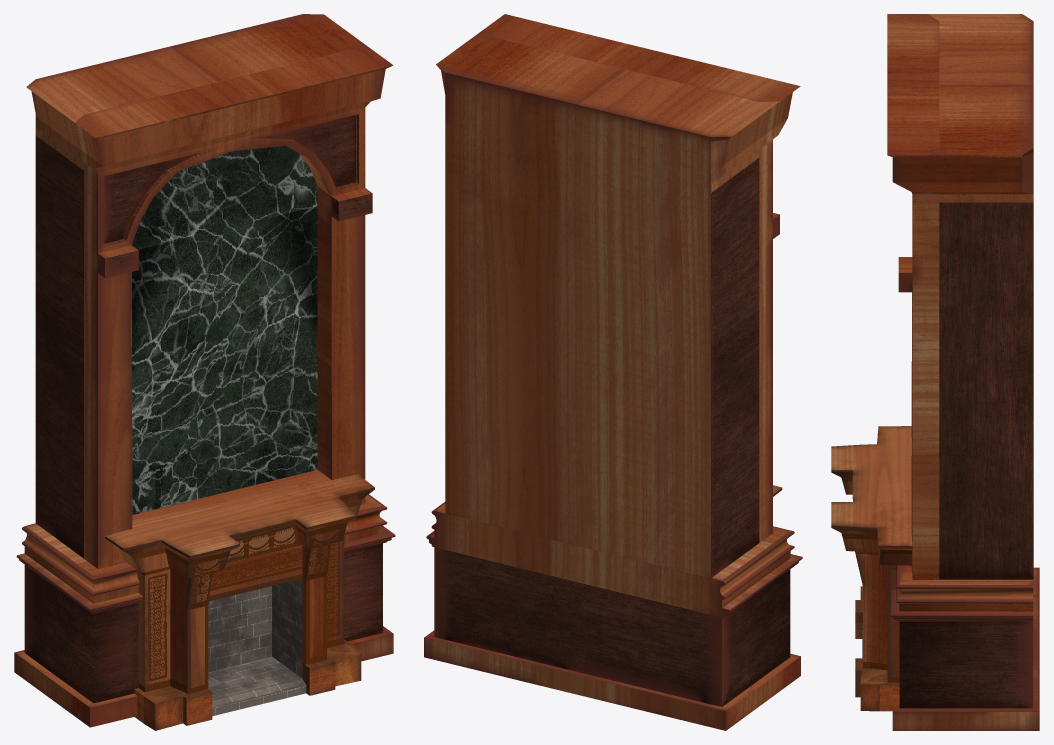
Rendered from level_fireplace.glb.
3 renders of one model, left to right at view 1: azimuth 30°, elevation 25°; view 2: azimuth 150°, elevation 25°; view 3: azimuth 270°, elevation 25°, orthographic. The views are drawn at different scales.
Parts seen in each view (by area): view 1: level_fireplace; view 2: level_fireplace; view 3: level_fireplace.
Boxes of the visible parts, x1,y1,x2,y2 form: level_fireplace: [14, 14, 395, 730]; level_fireplace: [424, 14, 802, 730]; level_fireplace: [831, 14, 1039, 730].
Size of the model in its own units: 1.55 by 2.88 by 0.9417.
Materials: 2 (2 with a texture image).
